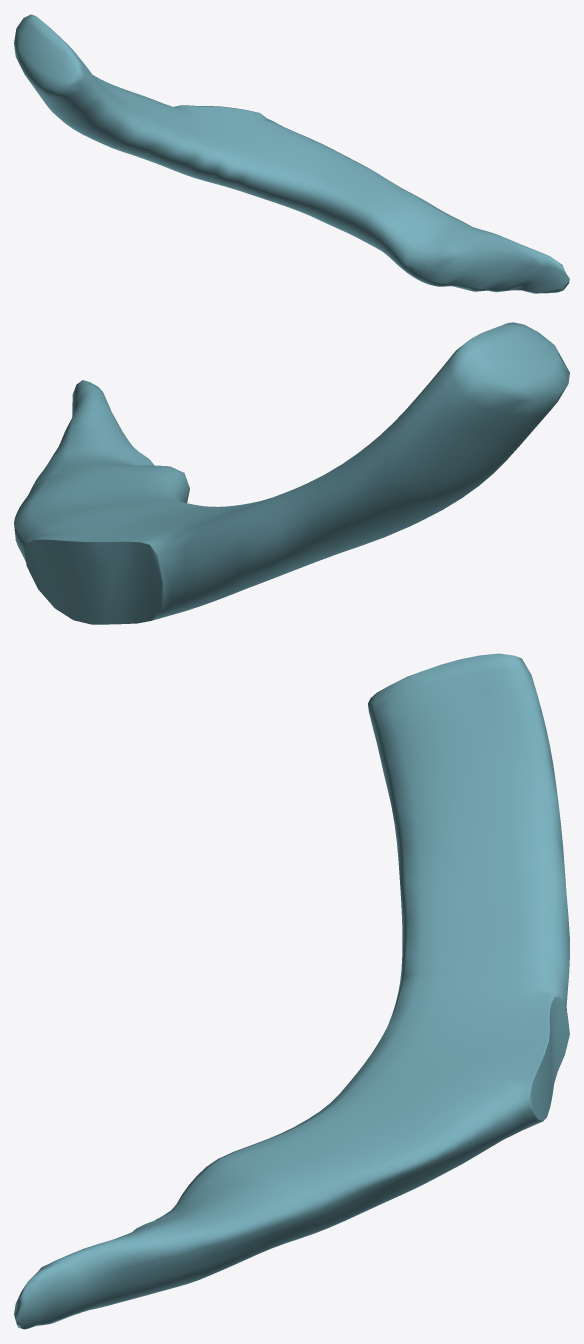
The picture shows the model from 3 angles, top to bottom: view 1: azimuth 30°, elevation 25°; view 2: azimuth 150°, elevation 25°; view 3: azimuth 270°, elevation 25°; orthographic projection. The views are drawn at different scales.
Parts seen in each view (by area): view 1: 右侧第八肋软骨; view 2: 右侧第八肋软骨; view 3: 右侧第八肋软骨.
Boxes of the visible parts, left/top/right/bottom form: 右侧第八肋软骨: left=14, top=14, right=569, bottom=293; 右侧第八肋软骨: left=14, top=322, right=569, bottom=624; 右侧第八肋软骨: left=14, top=653, right=569, bottom=1329.
Size of the model in its own units: 0.1201 by 0.0739 by 0.0918.
